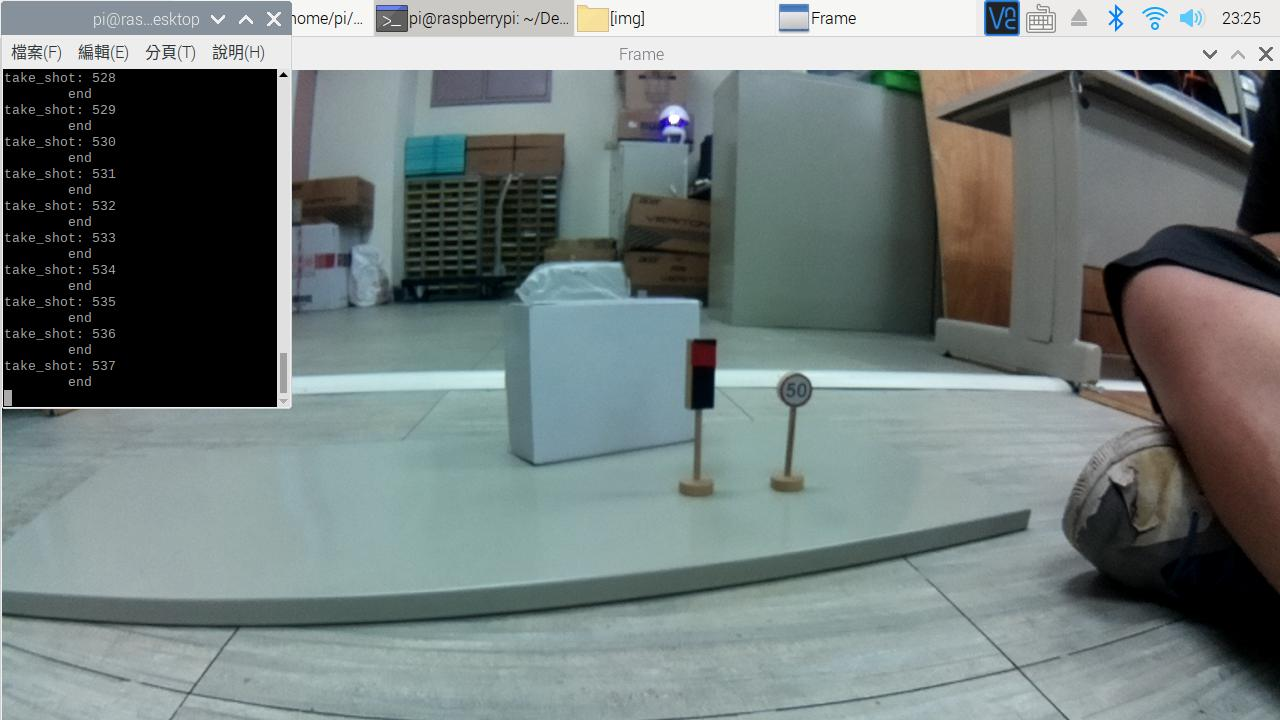Red: (672, 334, 724, 421)
Speed50: (772, 362, 814, 418)
